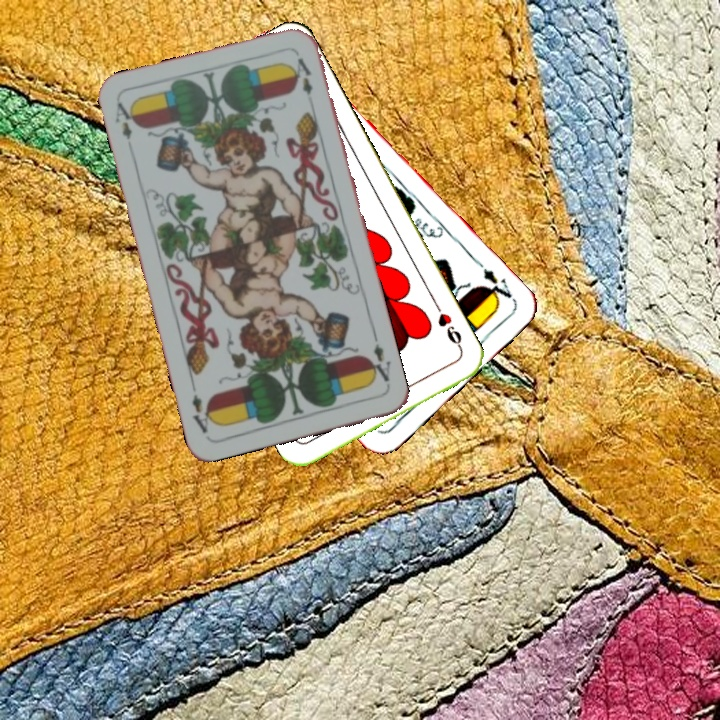EA: (478, 264, 515, 307), (363, 340, 393, 385), (111, 98, 140, 142)
H9: (430, 299, 466, 354)
